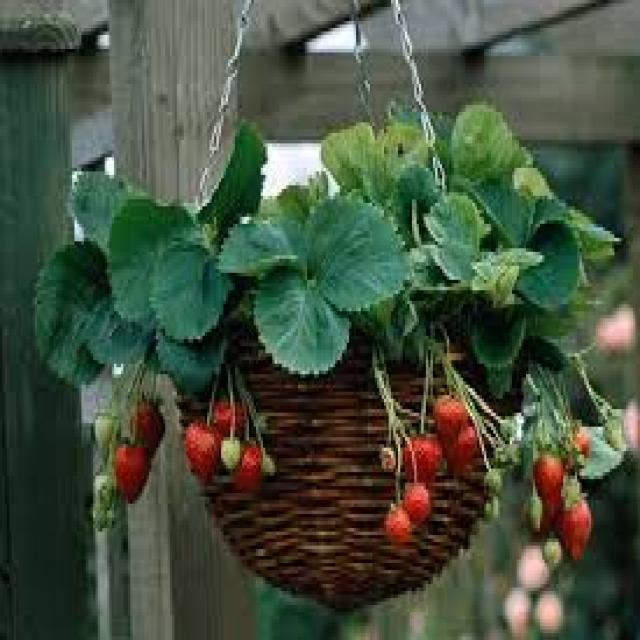Fruta sana: (558, 486, 594, 563), (533, 449, 570, 514), (113, 442, 148, 506), (137, 398, 169, 462), (184, 425, 216, 483), (430, 396, 468, 438), (452, 416, 479, 474), (236, 437, 261, 493), (405, 482, 433, 520), (408, 446, 436, 479), (210, 413, 243, 439), (388, 507, 411, 542)
